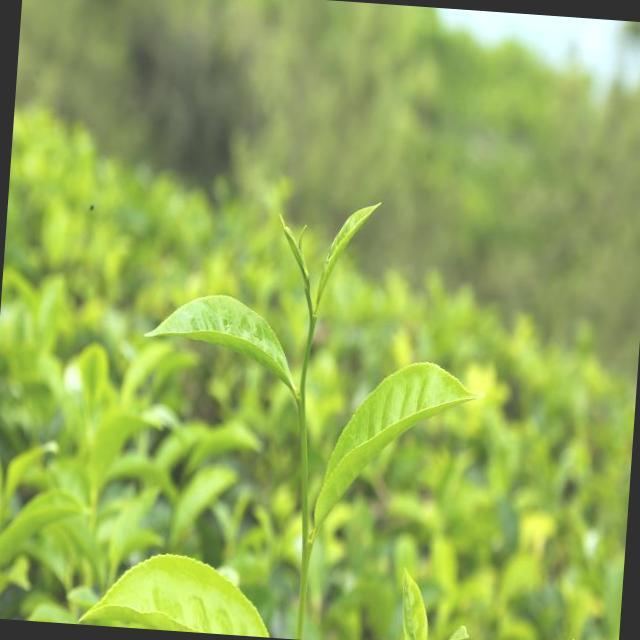Stem: (311, 316, 316, 325)
